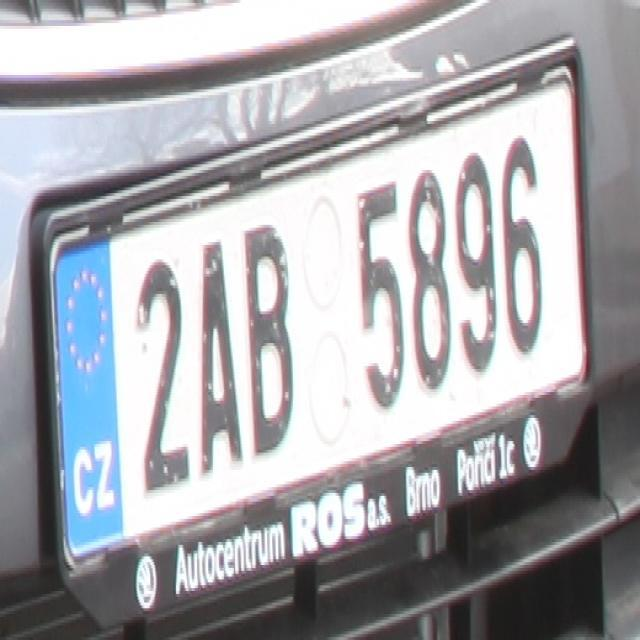2: (136, 260, 188, 490)
5: (356, 176, 404, 406)
6: (501, 133, 543, 354)
8: (407, 167, 452, 389)
9: (456, 150, 496, 372)
A: (196, 233, 241, 473)
B: (243, 219, 304, 464)
